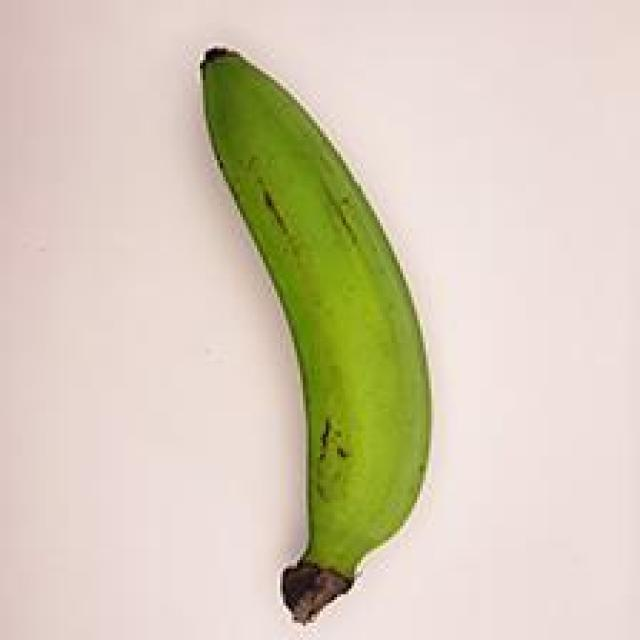Raw: (143, 26, 461, 640)
